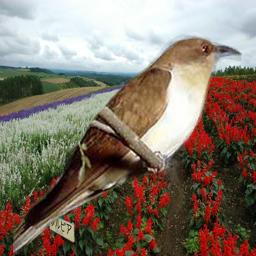Cuckoo: (13, 34, 242, 255)
